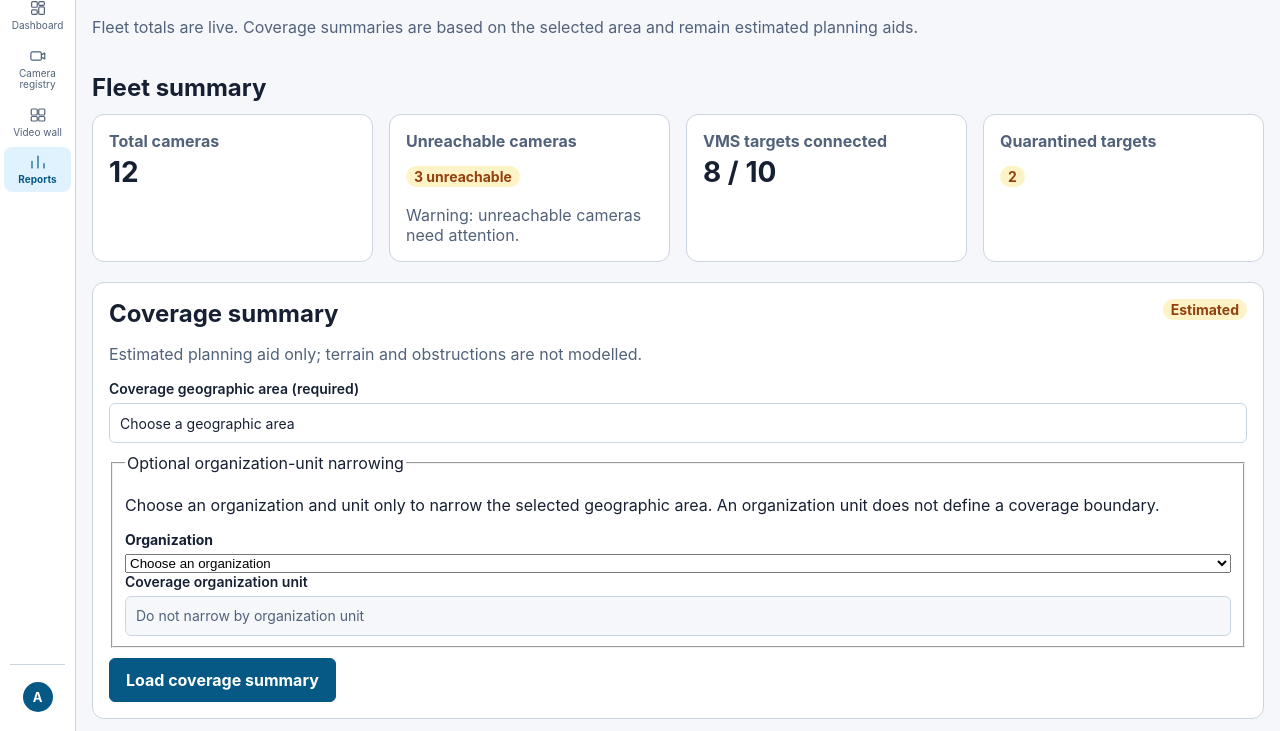
it: ReportsPage › renders backend fleet totals, selected coverage buckets, and the matching gap analysis
Expected: the text "12" is shown, [109,155,139,189]
Expected: the text "3 unreachable" is shown, [406,166,520,187]
Step 1. Click the dropdown named "coverage geographic area" → (207, 423), box [109,403,1247,443]
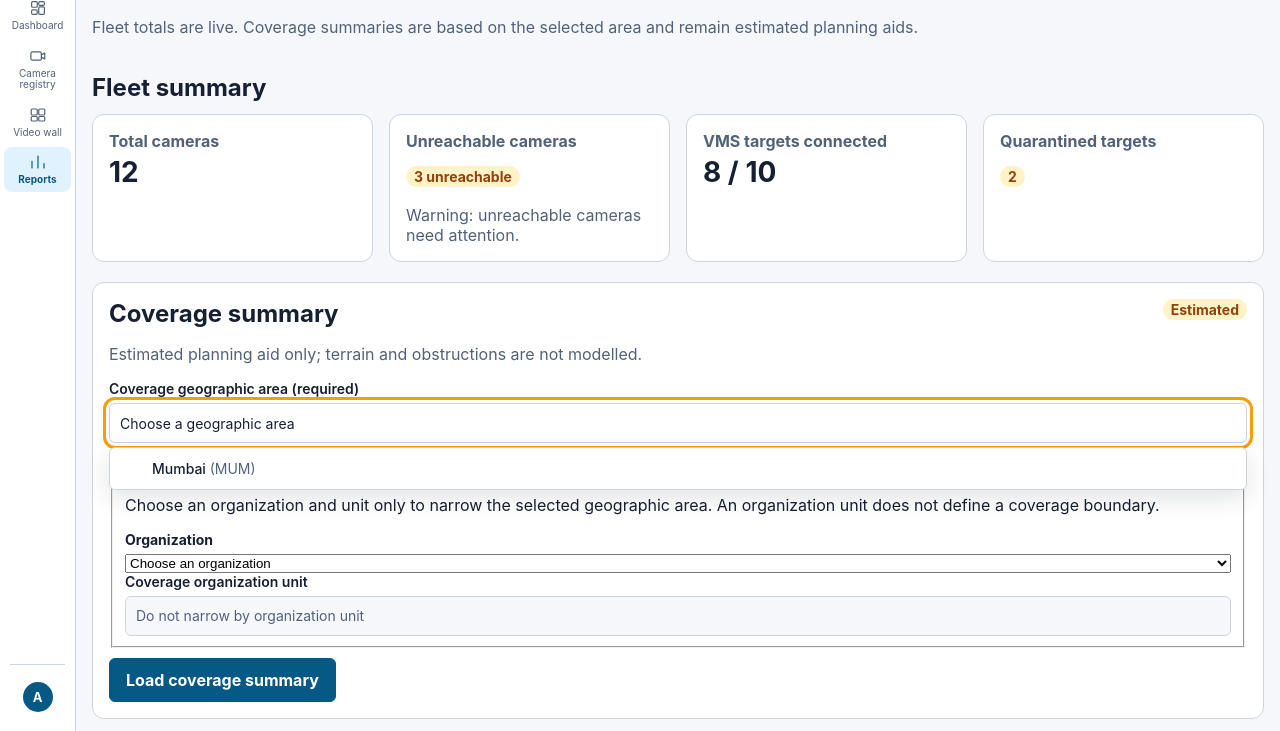
Step 2. Click the button "Mumbai (MUM)" → (179, 468), box [144,454,1240,483]
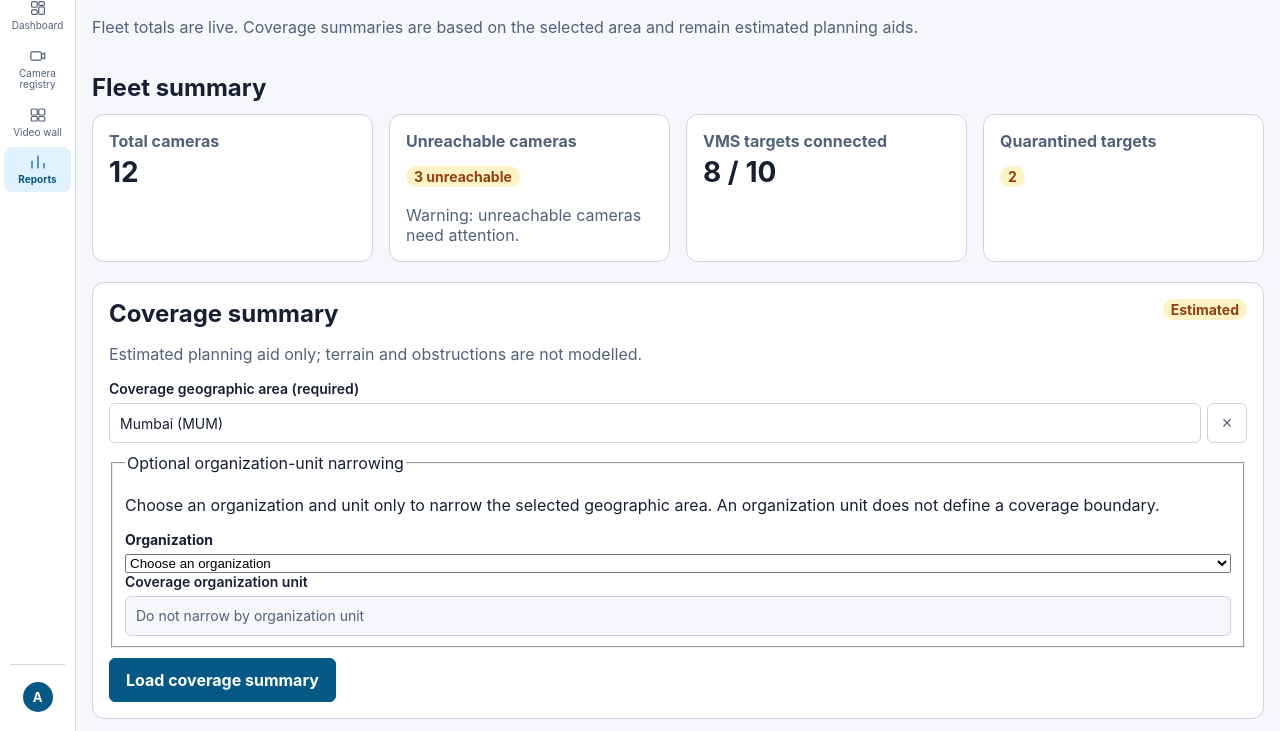
Step 3. Click the button "Load coverage summary" → (222, 680), box [109,658,336,702]
(page scrolled)
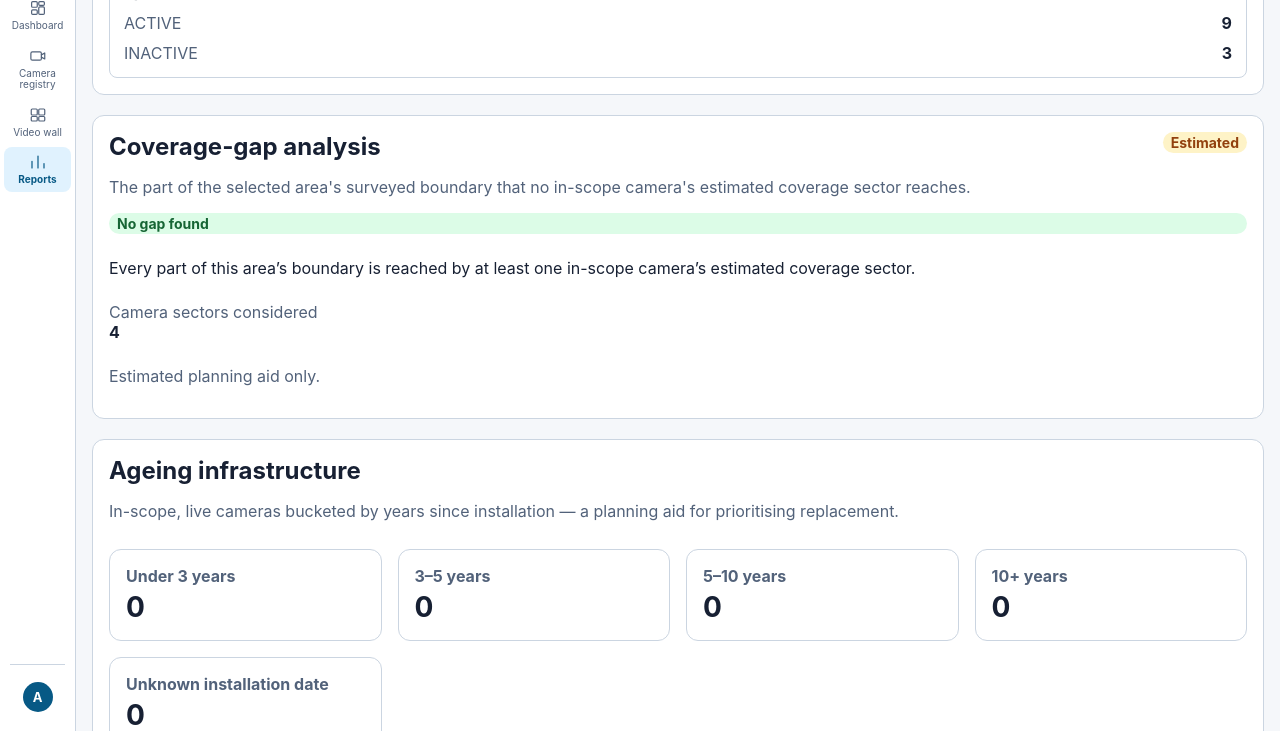
Expected: the text "ACTIVE" is shown, [124,13,182,33]
Expected: the text "9" is shown, [1222,13,1232,33]
Expected: the text "No gap found" is shown, [109,213,1247,234]
